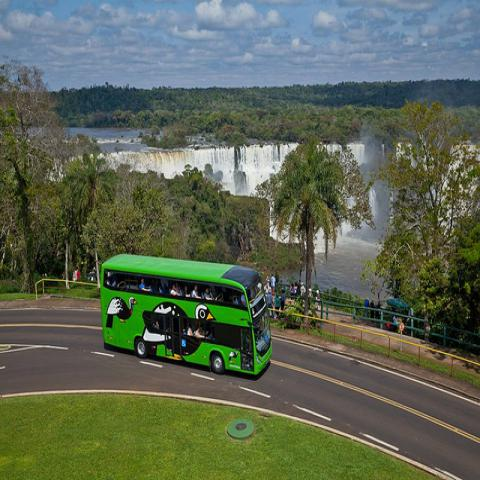bus: (100, 253, 273, 376)
